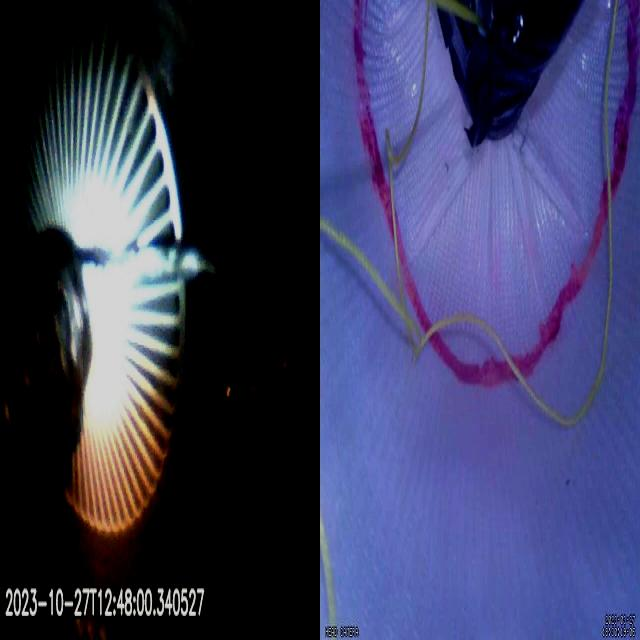red-circle: (352, 0, 640, 387)
